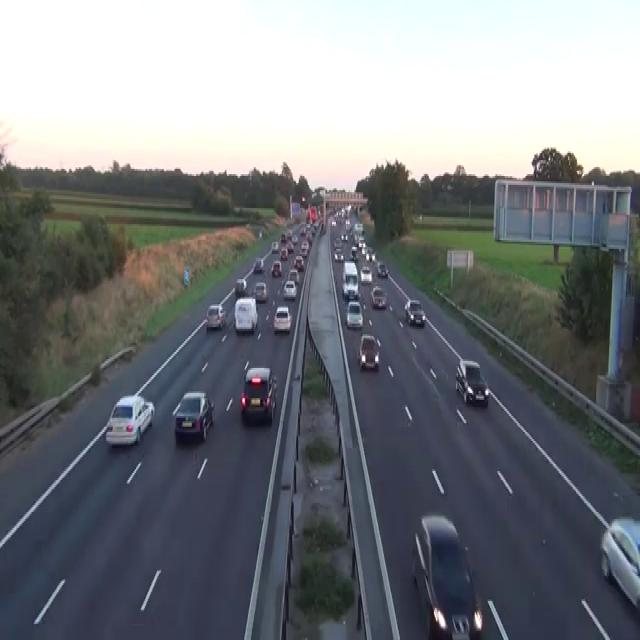Car: (411, 512, 483, 638), (600, 516, 639, 610), (105, 393, 154, 446), (172, 389, 214, 441), (239, 366, 277, 423), (455, 359, 489, 405), (358, 332, 380, 370), (464, 374, 489, 406), (404, 299, 425, 327), (205, 304, 226, 329), (345, 300, 363, 329), (273, 304, 291, 332), (370, 284, 387, 308), (342, 279, 359, 301), (342, 259, 357, 281), (253, 281, 267, 302), (283, 279, 296, 299), (234, 277, 247, 295), (360, 265, 372, 283), (376, 262, 388, 278), (271, 260, 281, 278), (253, 256, 264, 272), (293, 254, 304, 270), (288, 266, 299, 282), (354, 222, 364, 235), (300, 240, 308, 256), (279, 246, 288, 260), (334, 249, 344, 261), (350, 243, 357, 260), (365, 247, 373, 260), (333, 238, 342, 249), (286, 240, 294, 252), (358, 236, 365, 249), (340, 231, 348, 242), (271, 240, 278, 252), (320, 222, 326, 235), (292, 233, 298, 243), (446, 183, 454, 190), (280, 233, 286, 242), (345, 218, 350, 228), (286, 230, 292, 238), (331, 217, 336, 226), (258, 230, 262, 238)
Truck: (233, 297, 257, 332)
